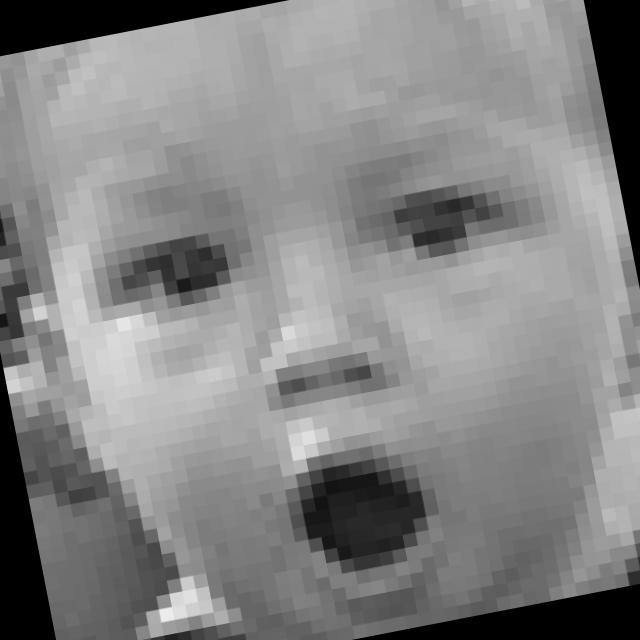surprise: (77, 146, 614, 640)
